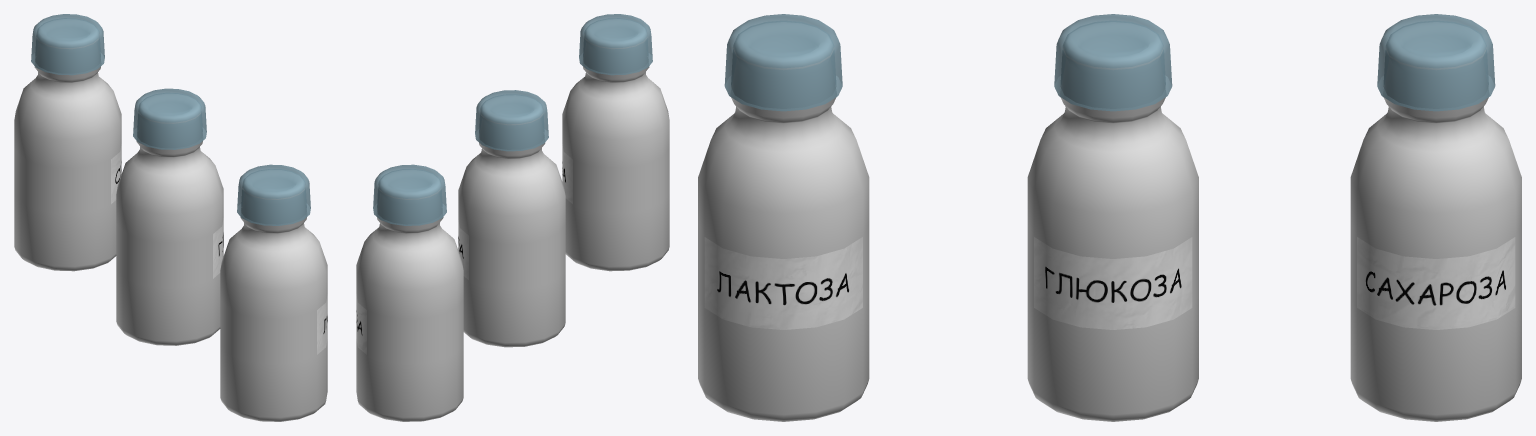
The model's file is bottles.fbx.
3 views of the same model, side by side, from view 1: azimuth 30°, elevation 25°; view 2: azimuth 150°, elevation 25°; view 3: azimuth 270°, elevation 25° (orthographic). The views are drawn at different scales.
Visible parts, largest first — view 1: bottle_laktoza, bottle_glukoza, bottle_saharoza, bottle_saharoza_cup, bottle_glukoza_cup, bottle_laktoza_cup; view 2: bottle_saharoza, bottle_laktoza, bottle_glukoza, bottle_laktoza_cup, bottle_glukoza_cup, bottle_saharoza_cup; view 3: bottle_glukoza, bottle_laktoza, bottle_saharoza, bottle_glukoza_cup, bottle_laktoza_cup, bottle_saharoza_cup.
Boxes of the visible parts, x1,y1,x2,y2 form: bottle_laktoza: (220, 184, 327, 421); bottle_glukoza: (116, 108, 223, 345); bottle_saharoza: (14, 33, 121, 271); bottle_saharoza_cup: (31, 14, 104, 75); bottle_glukoza_cup: (133, 88, 206, 149); bottle_laktoza_cup: (237, 164, 310, 225); bottle_saharoza: (356, 184, 463, 421); bottle_laktoza: (562, 33, 669, 271); bottle_glukoza: (458, 109, 565, 347); bottle_laktoza_cup: (579, 14, 652, 75); bottle_glukoza_cup: (475, 90, 548, 151); bottle_saharoza_cup: (373, 164, 446, 225); bottle_glukoza: (1027, 47, 1198, 421); bottle_laktoza: (698, 47, 869, 421); bottle_saharoza: (1350, 47, 1521, 421); bottle_glukoza_cup: (1054, 14, 1172, 111); bottle_laktoza_cup: (724, 14, 842, 111); bottle_saharoza_cup: (1377, 14, 1495, 111).
Size of the model in its own units: 7.67 by 17.59 by 36.86.
Materials: 3 (1 with a texture image).
